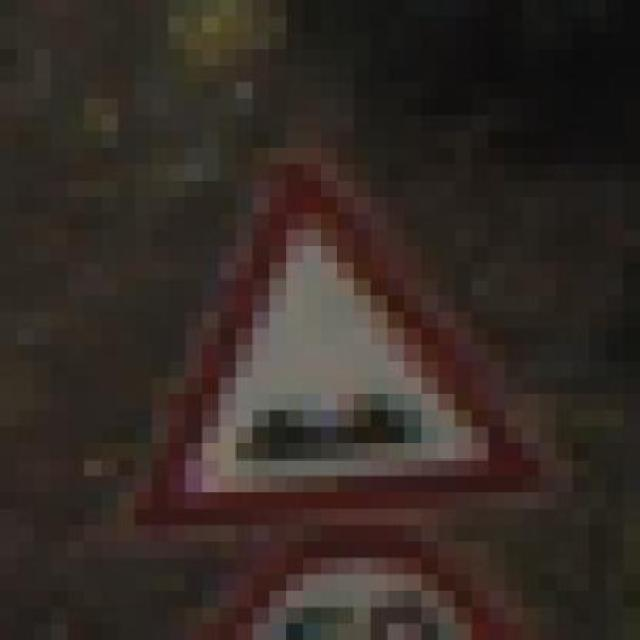Uneven Road: (101, 115, 573, 542)
